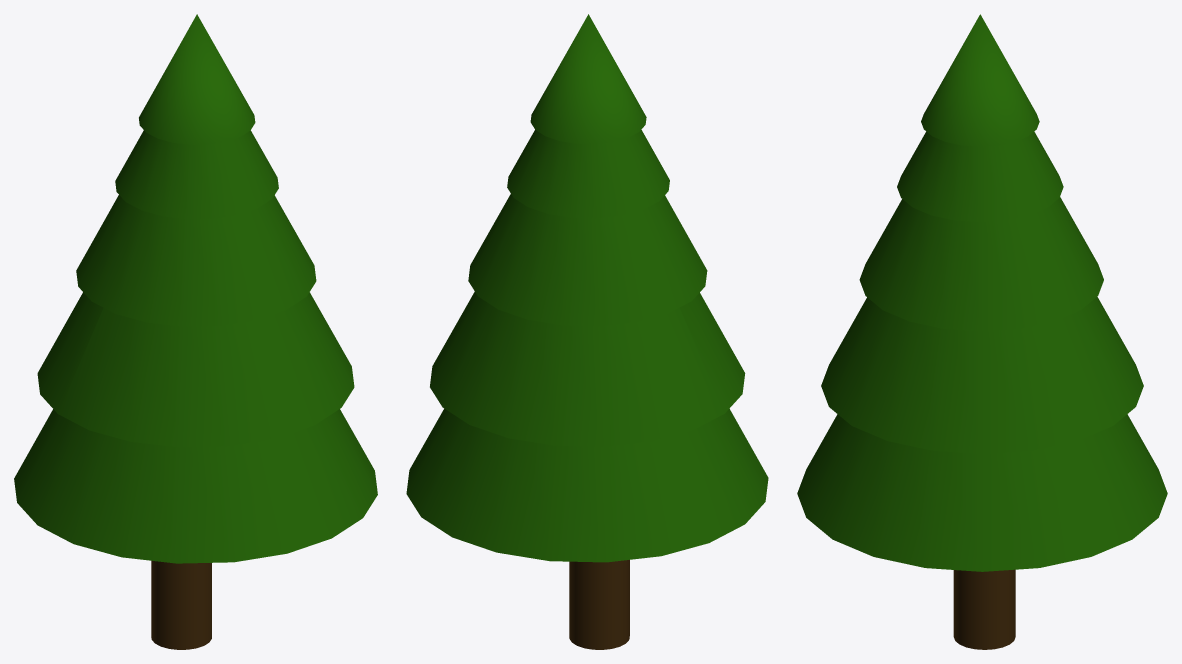
The model's file is tree.fbx.
3 views of the same model, side by side, from view 1: azimuth 30°, elevation 25°; view 2: azimuth 150°, elevation 25°; view 3: azimuth 270°, elevation 25° (orthographic).
Visible parts, largest first — view 1: pCone8; view 2: pCone8; view 3: pCone8.
Boxes of the visible parts, x1,y1,x2,y2 form: pCone8: (14,14,377,649); pCone8: (406,14,768,649); pCone8: (797,14,1167,649).
Size of the model in its own units: 66.23 by 124 by 66.23.
